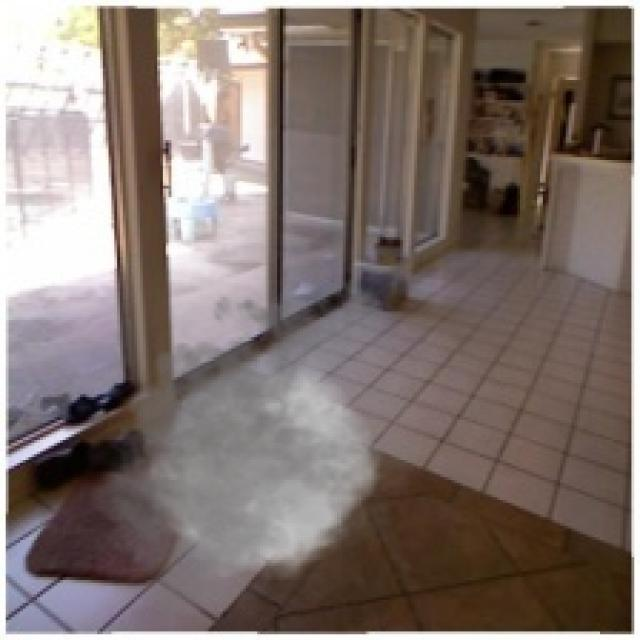Smoke: (80, 272, 443, 628)
